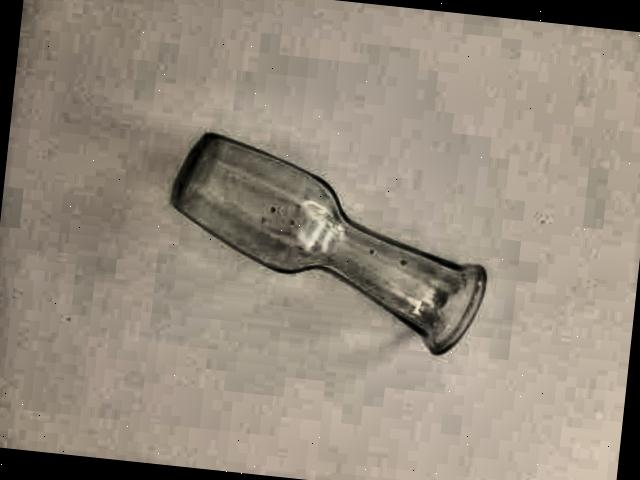Almennt: (138, 109, 526, 412)
